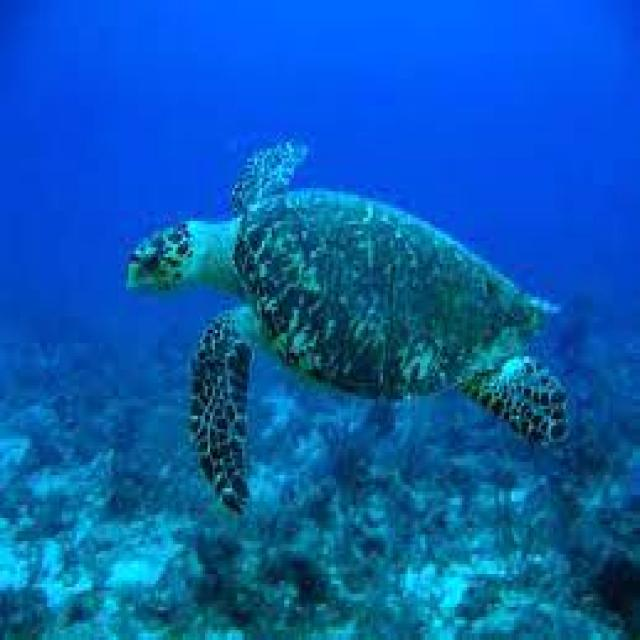Sea turtle: (127, 139, 572, 507)
